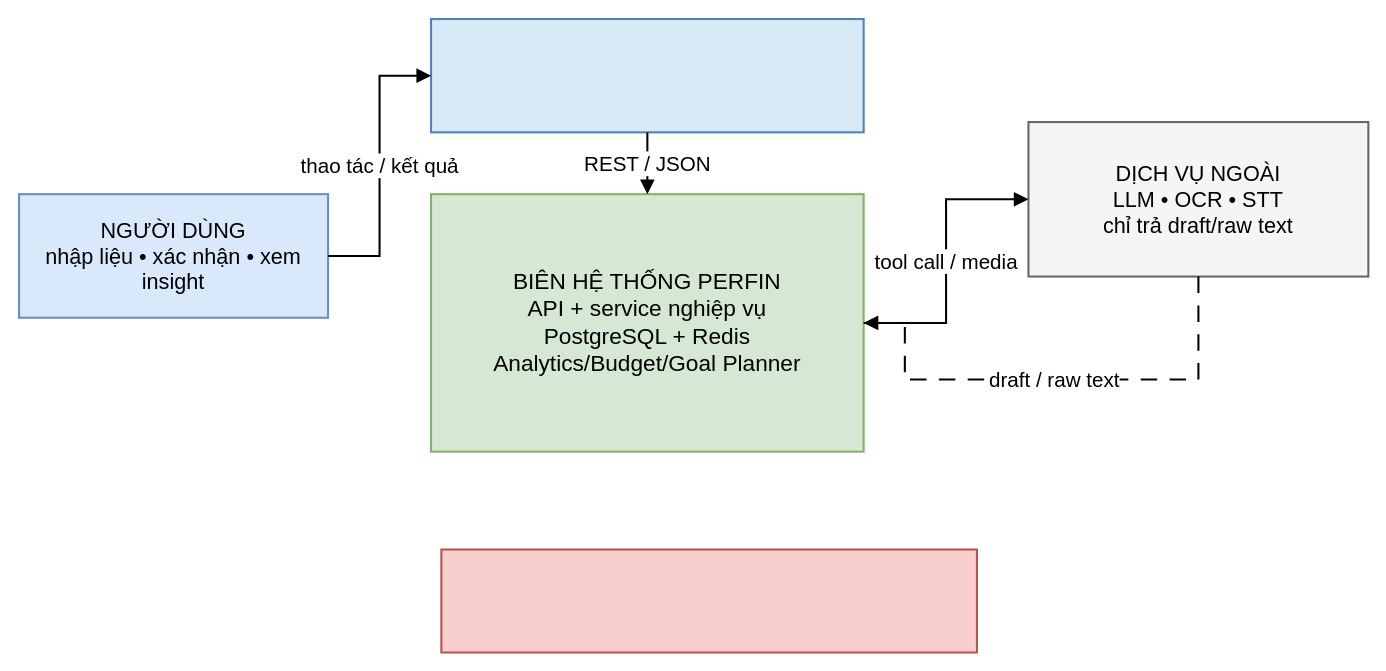
This 1386x671 diagram has some shape labels left out. Each missing label, with the centre of its shape:
"NGOÀI PHẠM VI NIÊN LUẬN Open Banking • shared wallet • auth production" belongs at pixel 708 600.
"ỨNG DỤNG DI ĐỘNG form • chat • media • preview" belongs at pixel 647 75.
